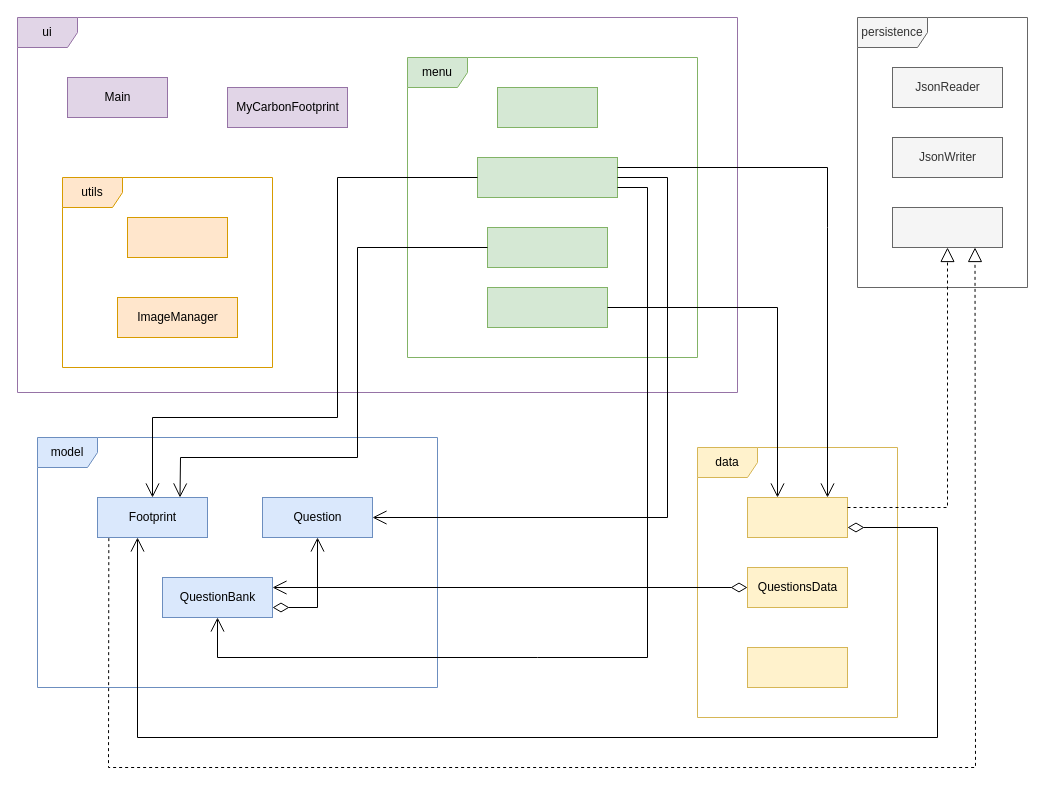
The diagram is 1045 pixels wide and 799 high, and some of its shapes have lost their labels. The centre of each missing label's shape, as x and y in pixels:
"AveragesMenu" belongs at point 547,107.
"CalculateFootprintMenu" belongs at point 547,177.
"ChartManager" belongs at point 177,237.
"EditFootprintMenu" belongs at point 547,247.
"FootprintRecord" belongs at point 797,517.
"LoadFootprintMenu" belongs at point 547,307.
"UserRecords" belongs at point 797,667.
"«interface» Writable" belongs at point 947,227.
